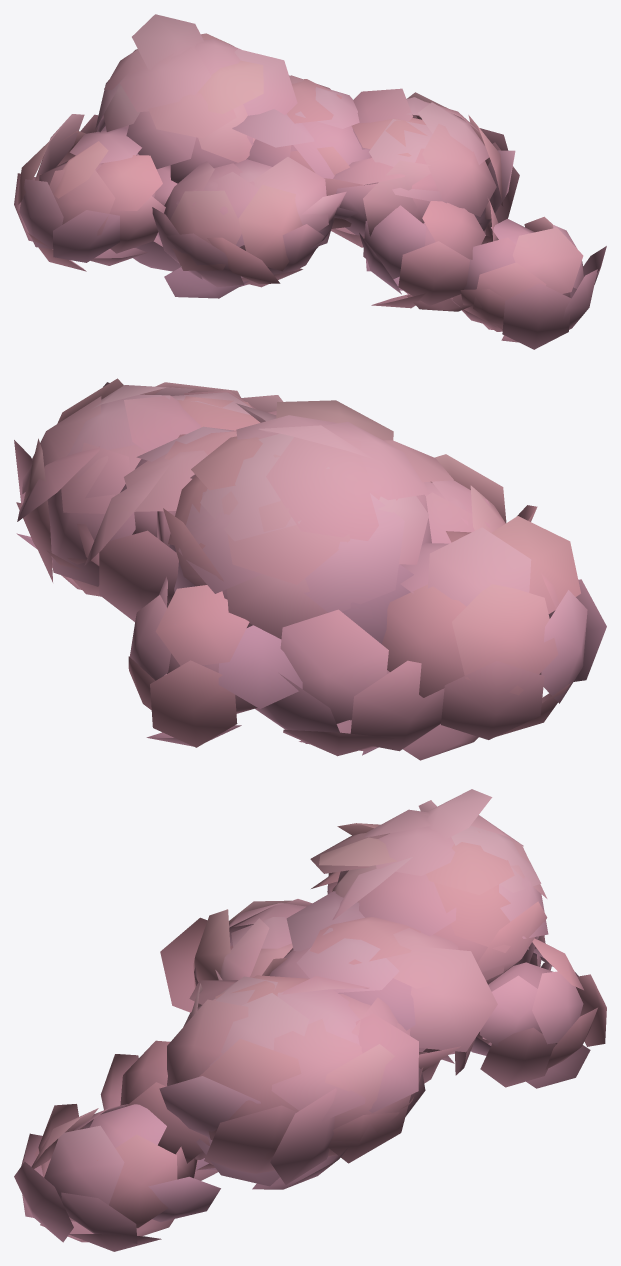
Rendered from zon_lake_swings_raw.glb.
3 renders of one model, top to bottom at view 1: azimuth 30°, elevation 25°; view 2: azimuth 150°, elevation 25°; view 3: azimuth 270°, elevation 25°, orthographic. The views are drawn at different scales.
Parts seen in each view (by area): view 1: SM_zon_lake_swings_veg_leaf_clip_x0_zm1_LOD0_raw; view 2: SM_zon_lake_swings_veg_leaf_clip_x0_zm1_LOD0_raw; view 3: SM_zon_lake_swings_veg_leaf_clip_x0_zm1_LOD0_raw.
Boxes of the visible parts, left/top/right/bottom form: SM_zon_lake_swings_veg_leaf_clip_x0_zm1_LOD0_raw: left=14, top=14, right=606, bottom=349; SM_zon_lake_swings_veg_leaf_clip_x0_zm1_LOD0_raw: left=14, top=378, right=606, bottom=760; SM_zon_lake_swings_veg_leaf_clip_x0_zm1_LOD0_raw: left=14, top=789, right=606, bottom=1251.
Size of the model in its own units: 9.34 by 5.05 by 8.62.
